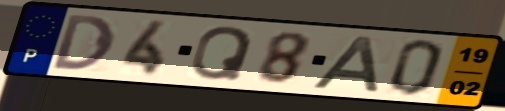0: (384, 37, 447, 99)
4: (118, 18, 169, 78)
8: (256, 30, 312, 86)
A: (307, 34, 384, 95)
D: (51, 13, 117, 72)
Q: (188, 25, 257, 83)
